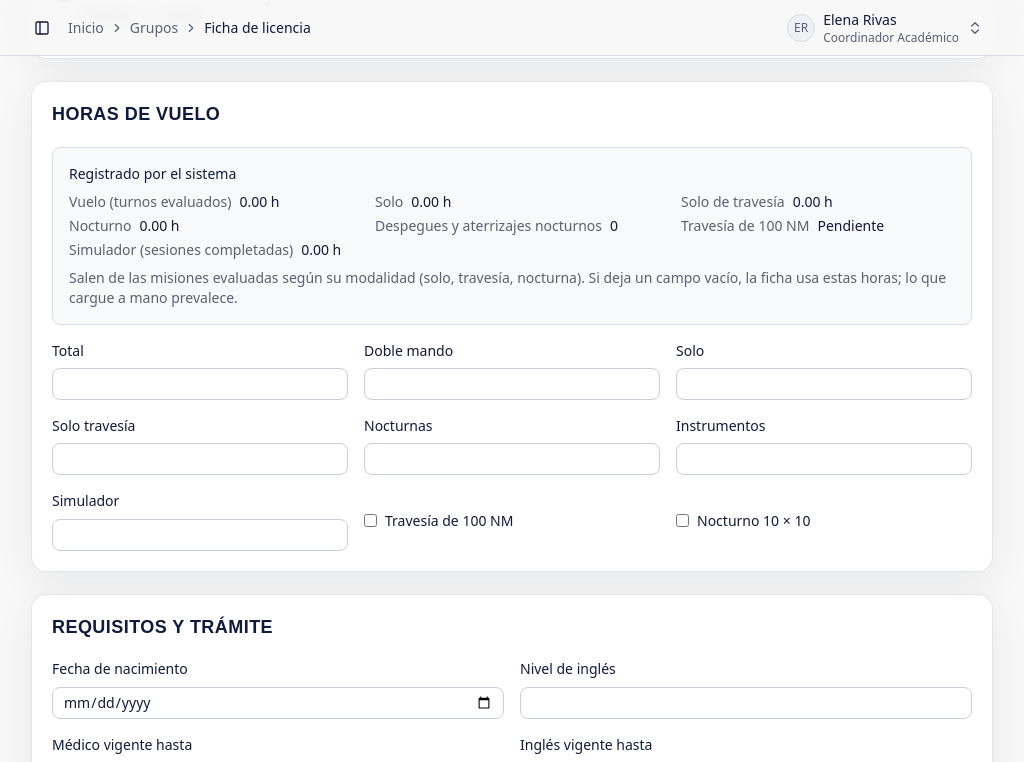
Test: Ficha de licencia (/fichas-licencia/$cod) › un egresado sin ficha la abre con la declaración del instructor y se puede capturar
This screenshot has width=1024, height=762.
(page scrolled)
Capturar horas insuficientes: la ficha pasa a Observada y el requisito de 40 h sigue faltando.
Type "30" into the number field labelled "Total".
click(200, 384); type("30")  # box [52, 368, 348, 400]
(page scrolled)
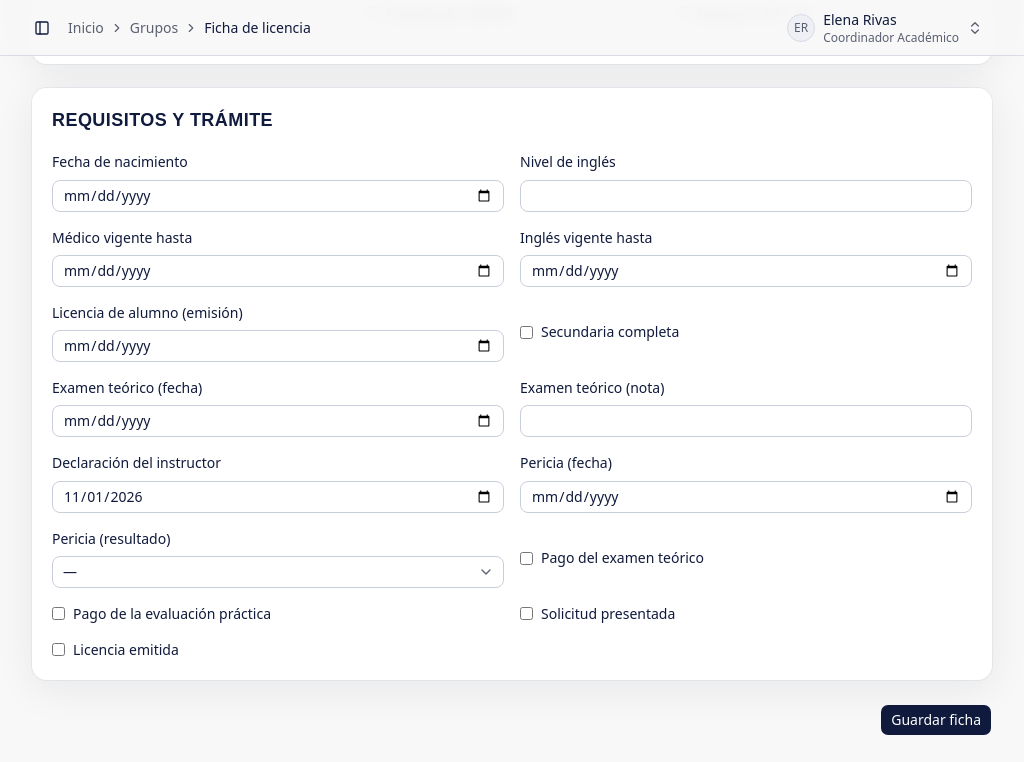
Click the button "Guardar ficha".
click(936, 720)  # box [880, 704, 992, 736]
(page scrolled)
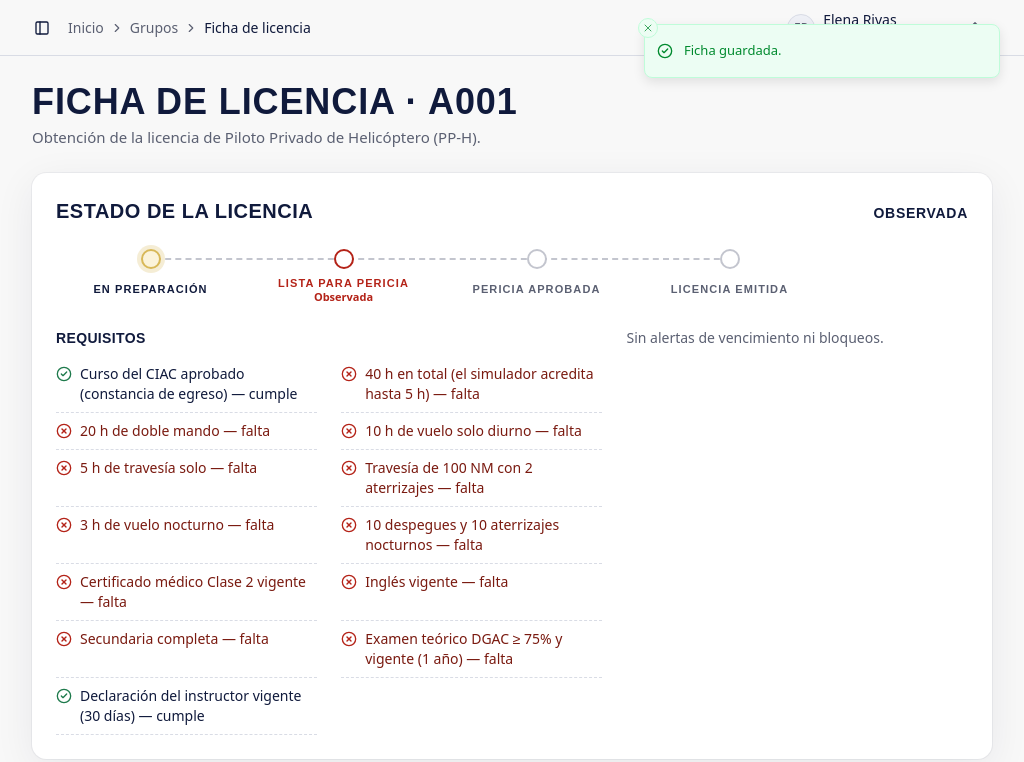
Expected: the text "Observada" in the row of "Estado de la licencia" is shown, [874, 204, 968, 220]
Expected: the text "Ficha guardada." is shown, [684, 41, 782, 60]
